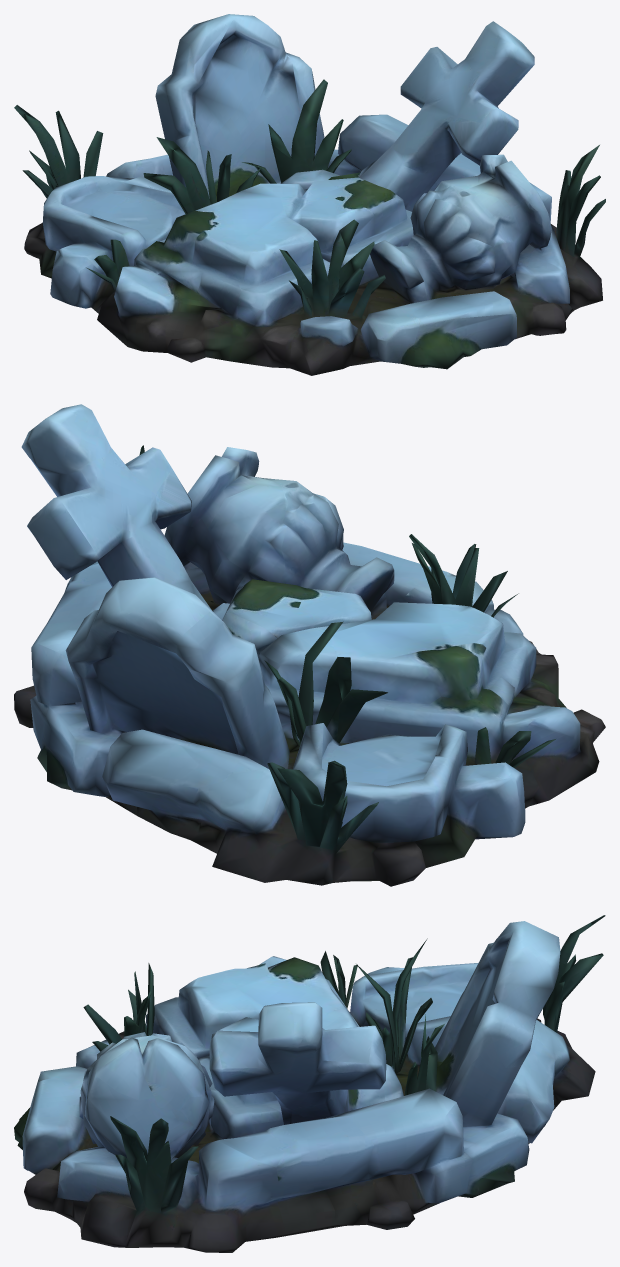
The model's file is gy_rubble-CTQOkG0r.glb.
3 renders of one model, top to bottom at view 1: azimuth 30°, elevation 25°; view 2: azimuth 150°, elevation 25°; view 3: azimuth 270°, elevation 25°, orthographic. The views are drawn at different scales.
Visible parts, largest first — view 1: tripo_node_072d5111-ae86-4a8e-af8c-b1c81264dc04; view 2: tripo_node_072d5111-ae86-4a8e-af8c-b1c81264dc04; view 3: tripo_node_072d5111-ae86-4a8e-af8c-b1c81264dc04.
Part boxes in pixels (x1,y1,x2,y2): tripo_node_072d5111-ae86-4a8e-af8c-b1c81264dc04: [14, 14, 605, 375]; tripo_node_072d5111-ae86-4a8e-af8c-b1c81264dc04: [14, 404, 605, 886]; tripo_node_072d5111-ae86-4a8e-af8c-b1c81264dc04: [14, 915, 605, 1252].
Size of the model in its own units: 0.9835 by 0.438 by 1.
Materials: 1 (1 with a texture image).
